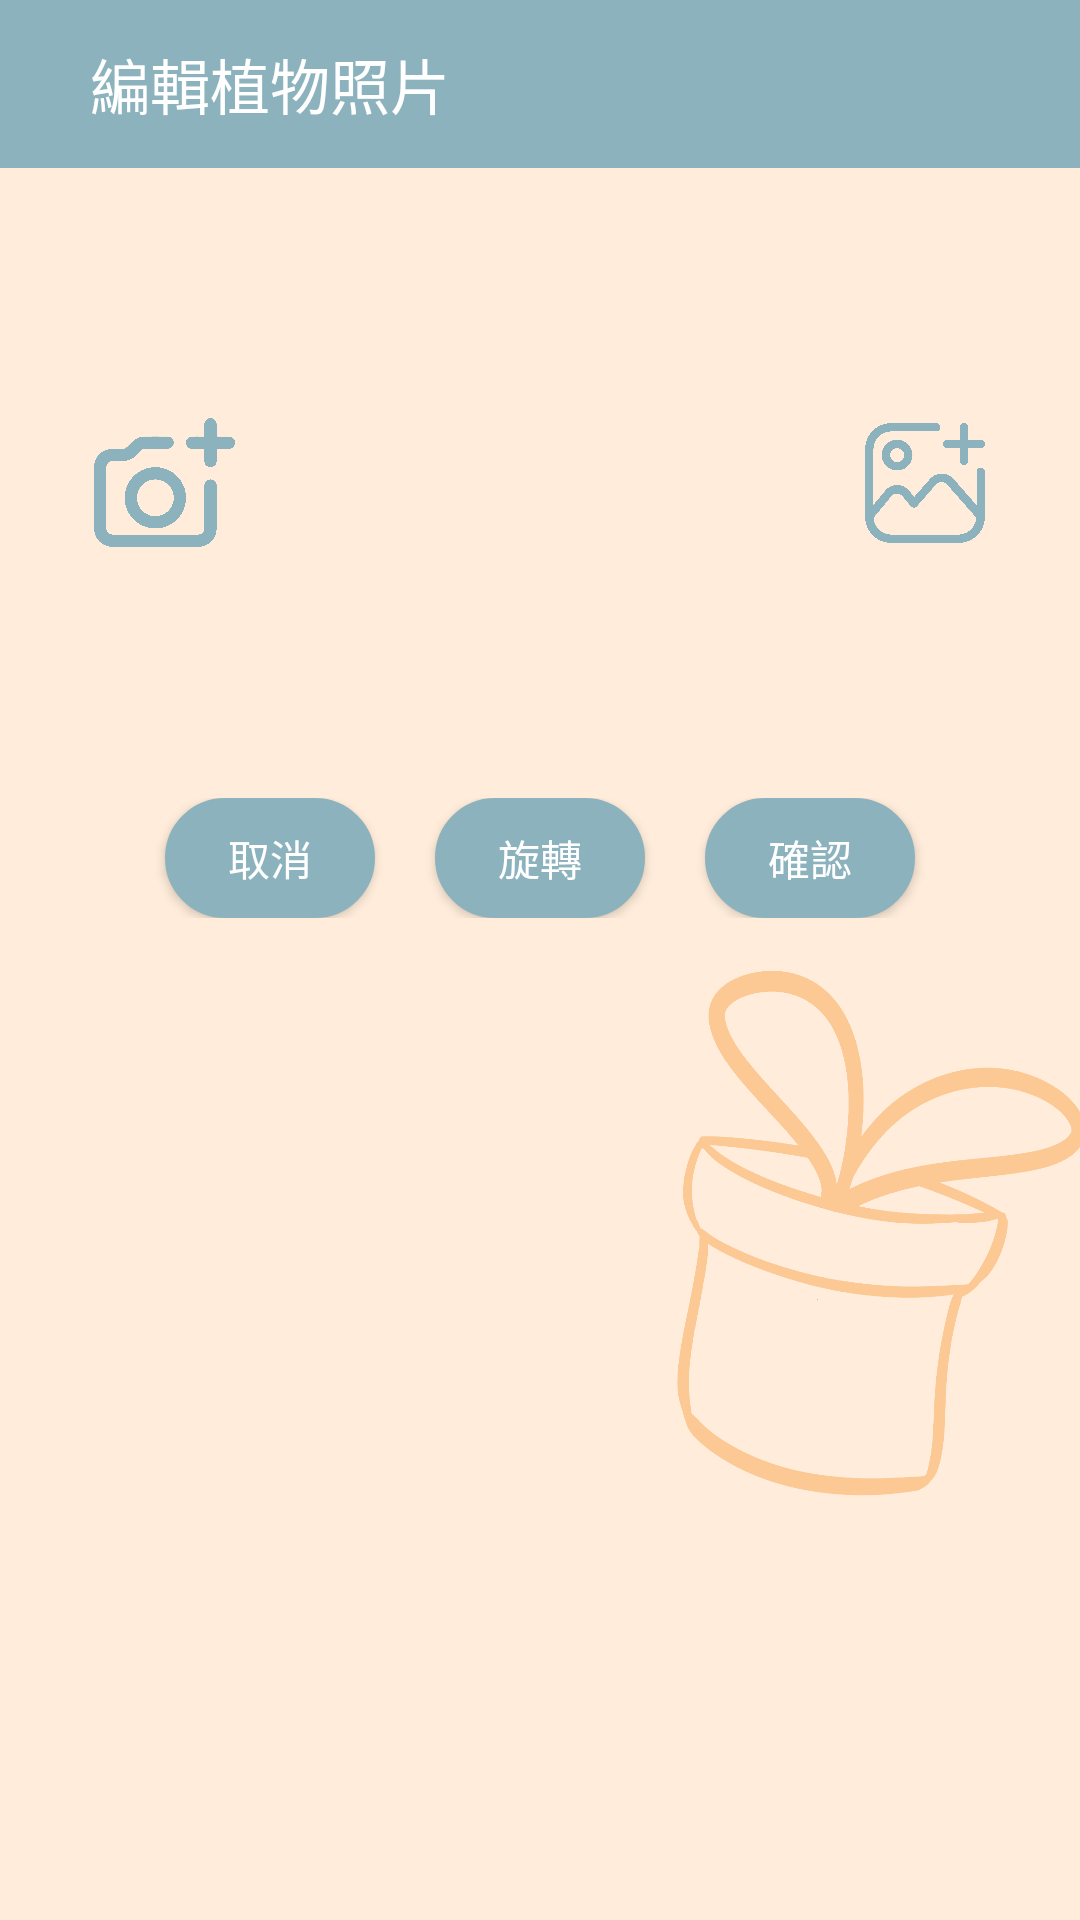

Icon click points for this 1080 × 1920 phone screenshot, format [x,y]:
add: [925,483]
add photo: [164,482]
